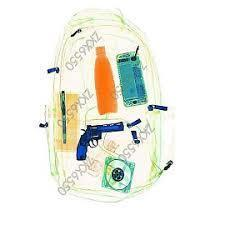Gun: (74, 120, 124, 160)
